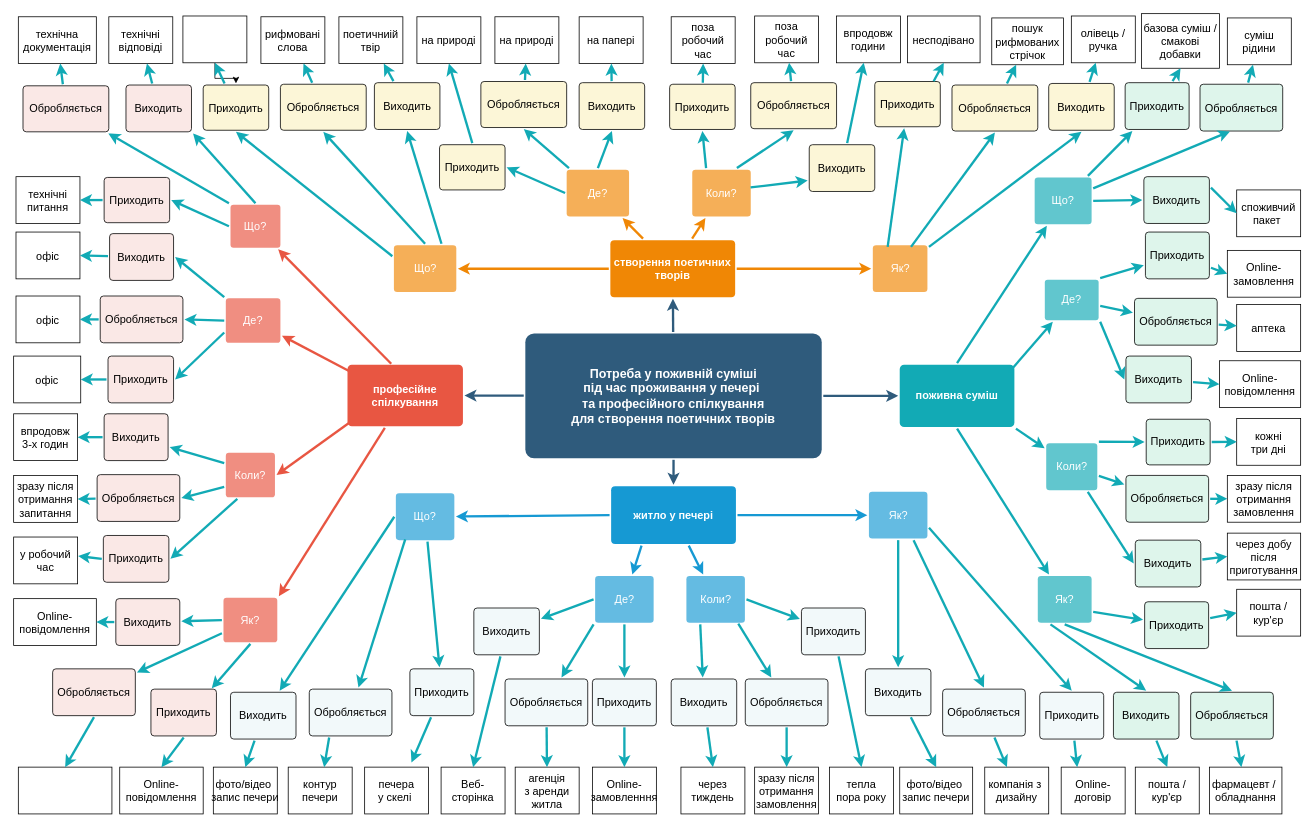
Image size: 1314x828. Some labels were removed from this diagram. The shapes that lost their labels are listed below. From the top down, each one's centre as x and y in pixels, then its label:
the point at 214,39: слова
the point at 65,790: співробітники / пошукові системи
